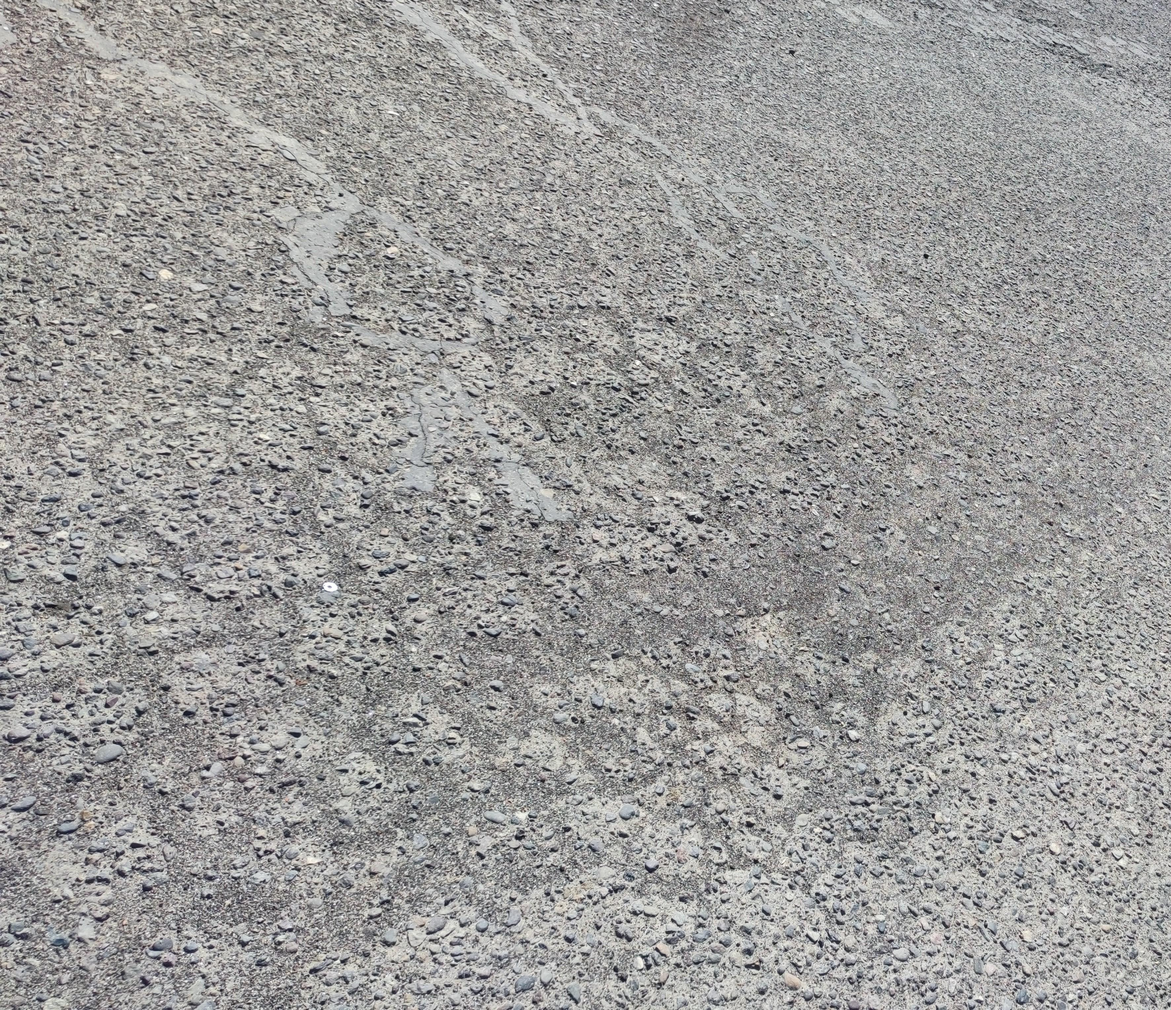PIEL DE COCODRILO: (0, 574, 964, 1010), (0, 294, 848, 764)
